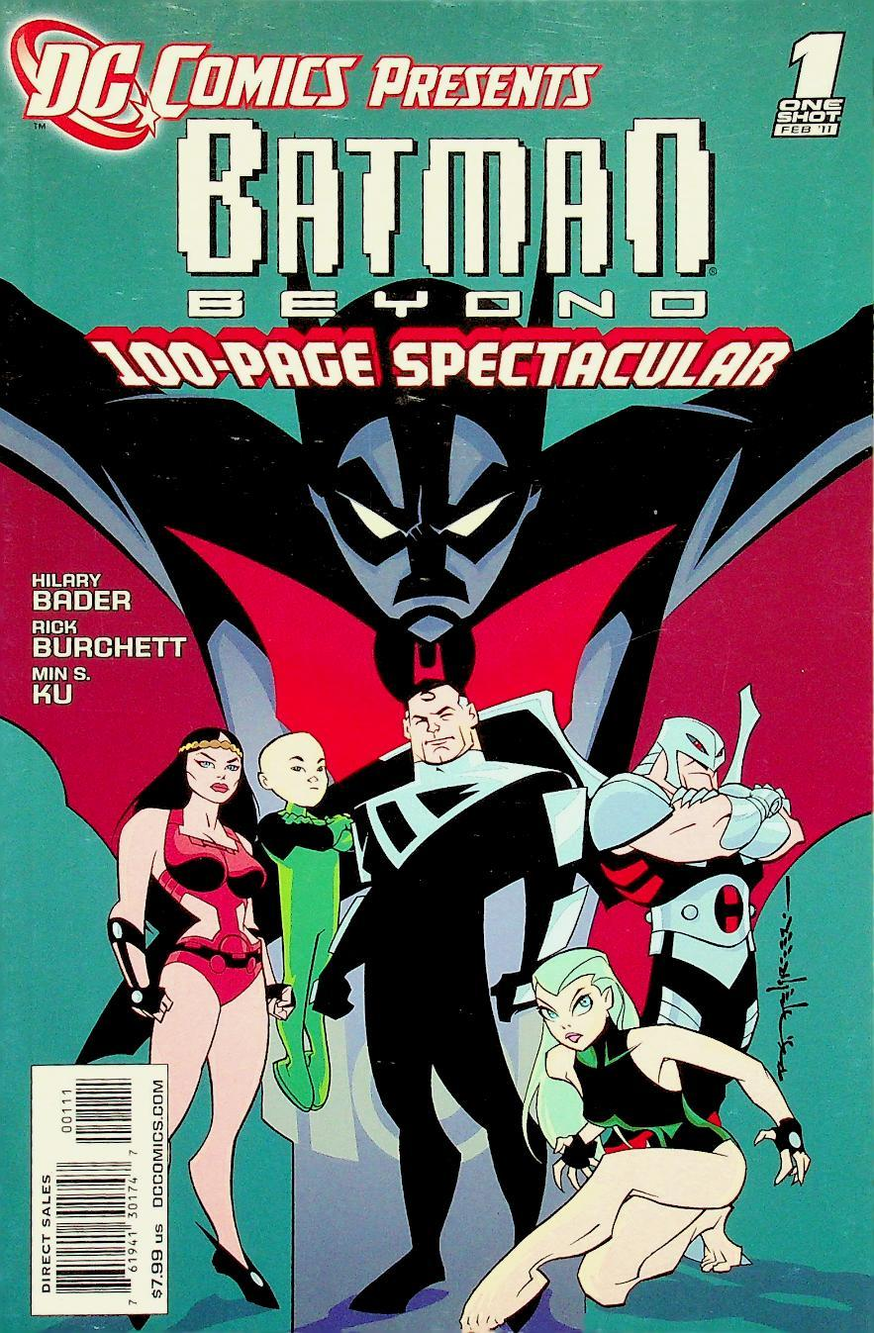comic: (0, 0, 871, 1332)
